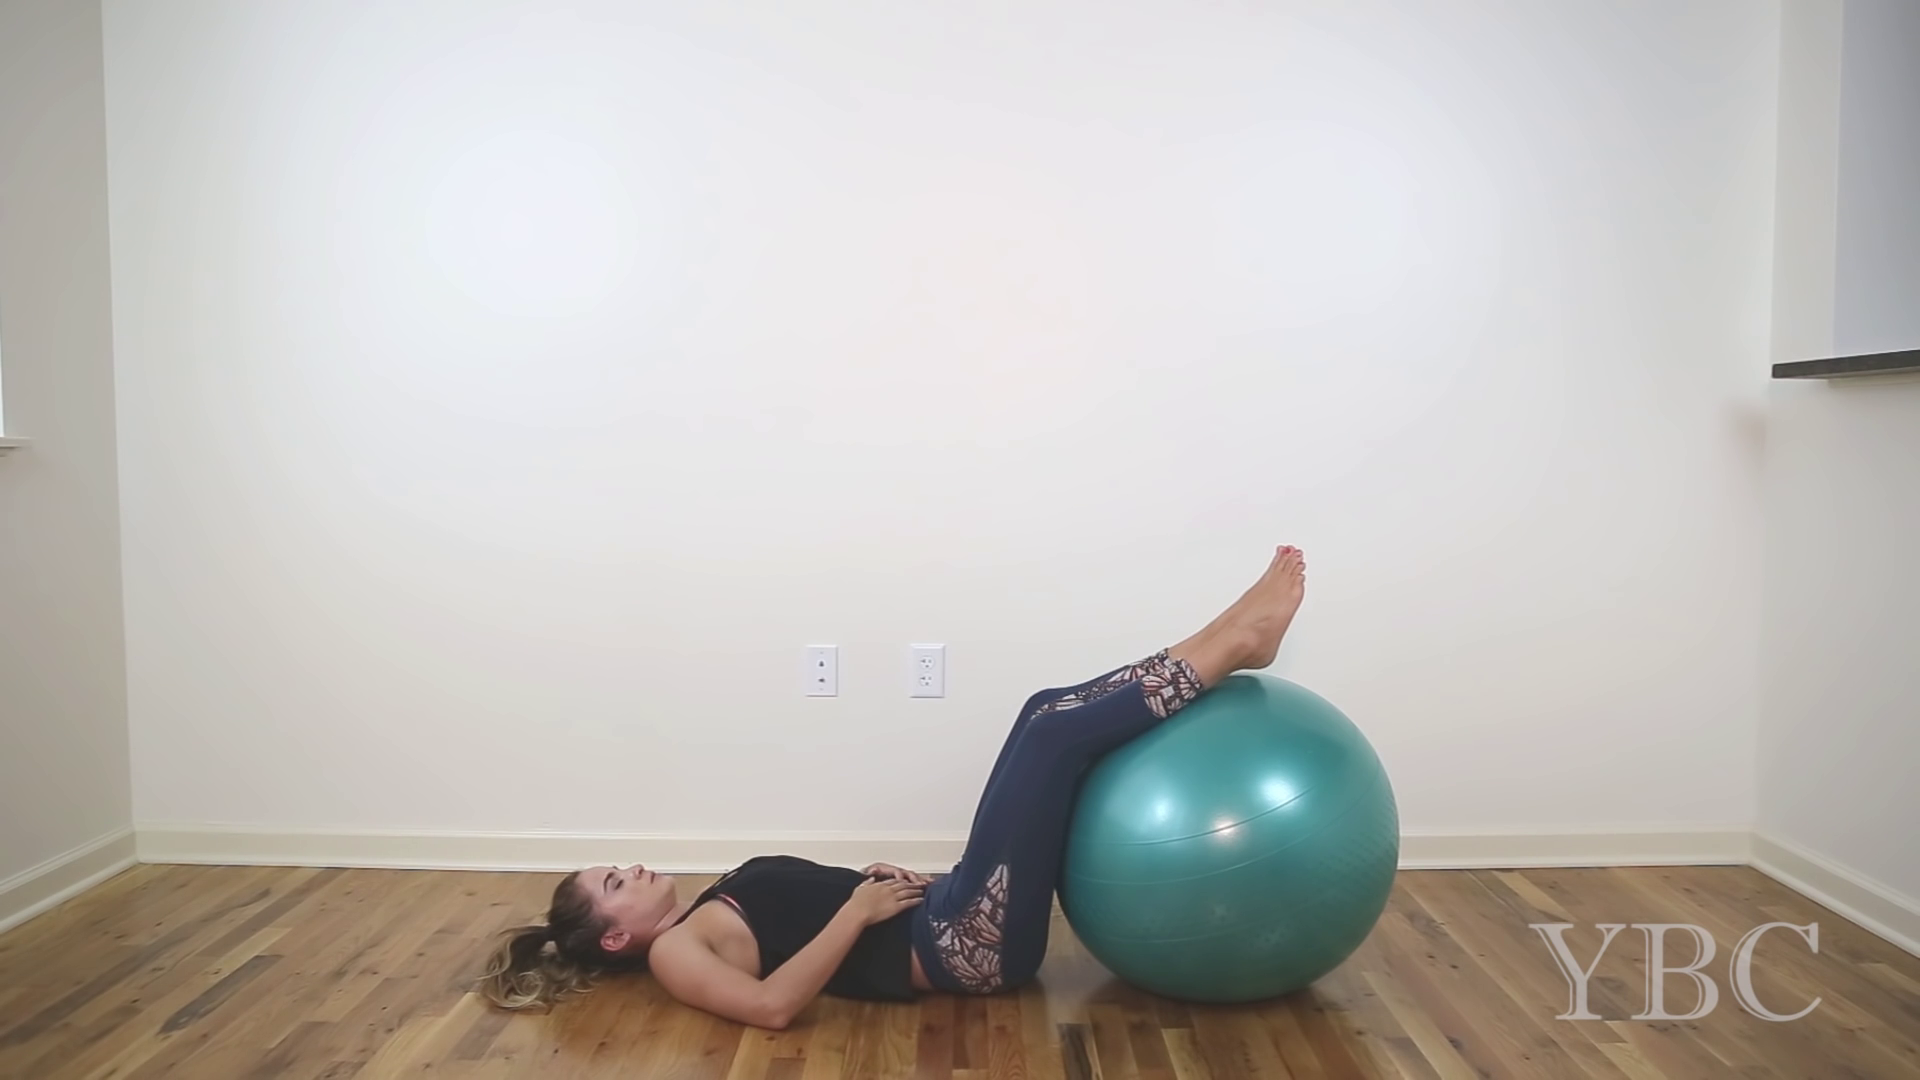yogaball: (1052, 667, 1431, 1007)
